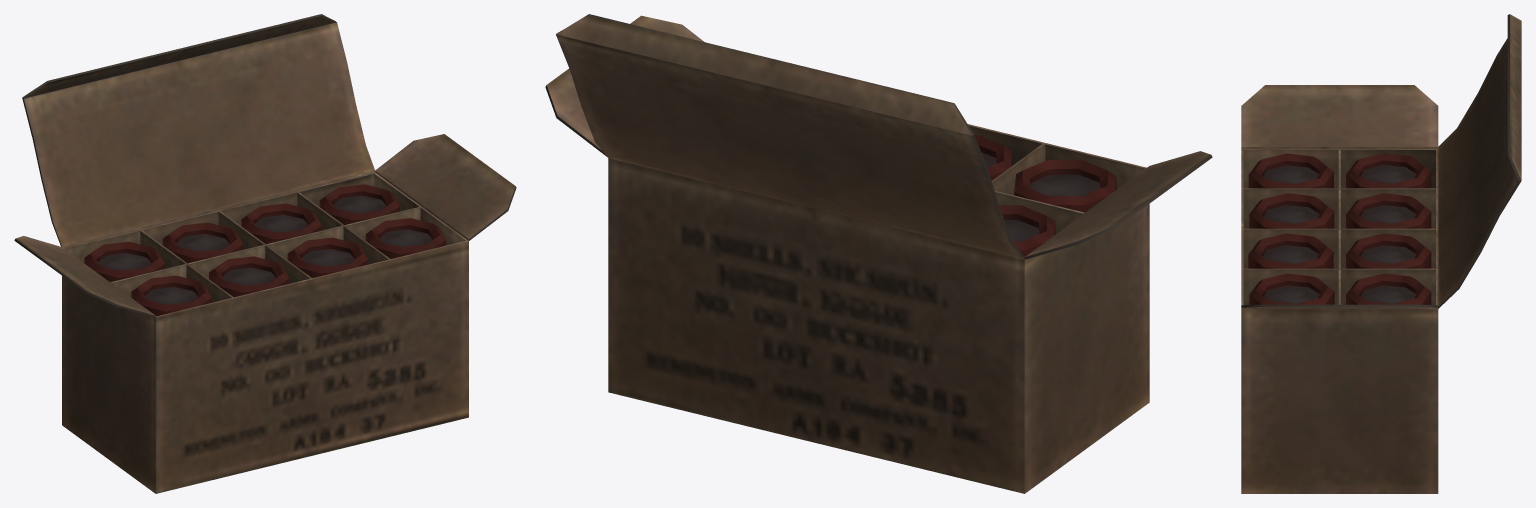
The model's file is shotgun_ammo_2_1.obj.
3 views of the same model, side by side, from view 1: azimuth 30°, elevation 25°; view 2: azimuth 150°, elevation 25°; view 3: azimuth 270°, elevation 25° (orthographic). The views are drawn at different scales.
Parts seen in each view (by area): view 1: shotgun_ammo_2_1; view 2: shotgun_ammo_2_1; view 3: shotgun_ammo_2_1.
Boxes of the visible parts, <box> form: shotgun_ammo_2_1: <box>14,14,516,493</box>; shotgun_ammo_2_1: <box>545,14,1212,493</box>; shotgun_ammo_2_1: <box>1241,14,1521,493</box>.
Size of the model in its own units: 6.33 by 4.42 by 3.4.
1 material, 1 textured.
